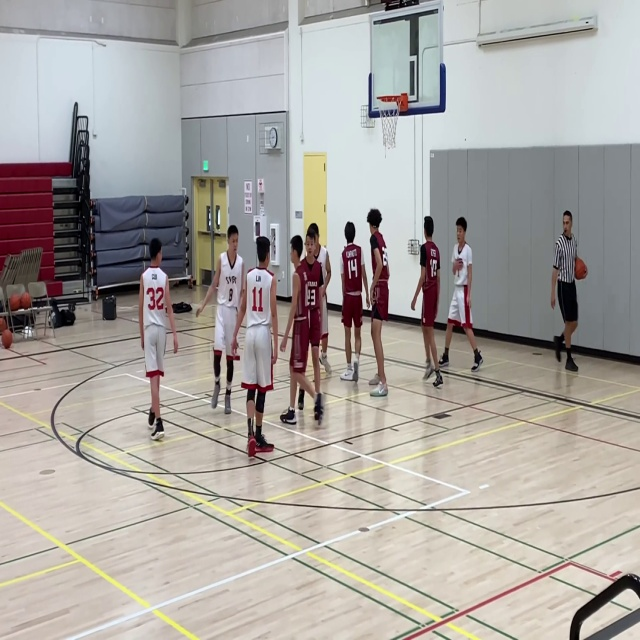Basketball: (573, 257, 587, 280), (1, 329, 13, 349), (20, 292, 31, 309), (9, 294, 20, 311), (0, 317, 6, 332)
